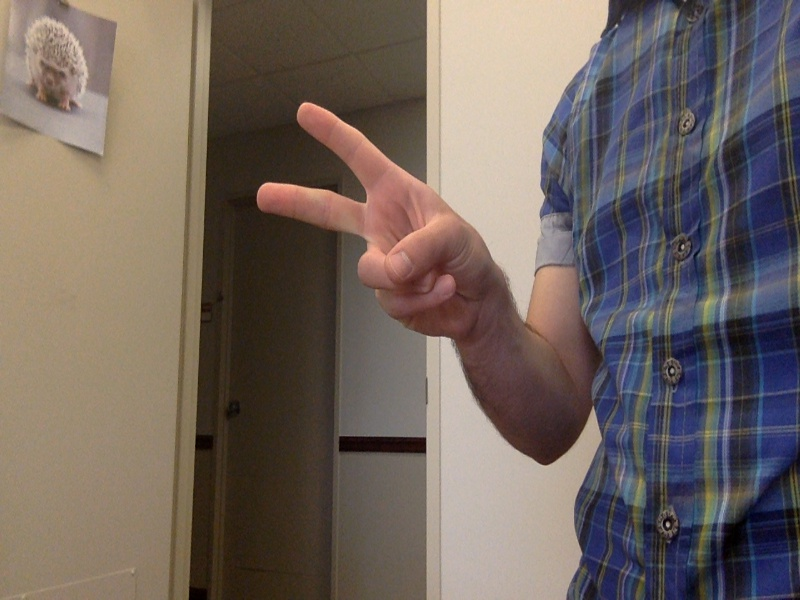2-hand: (255, 98, 503, 353)
